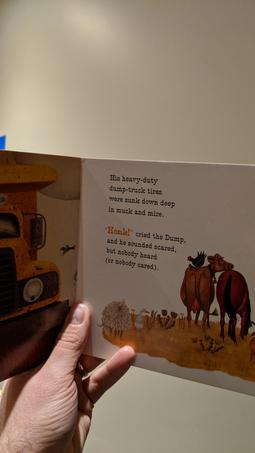text block: (98, 168, 183, 222), (99, 224, 188, 275)
